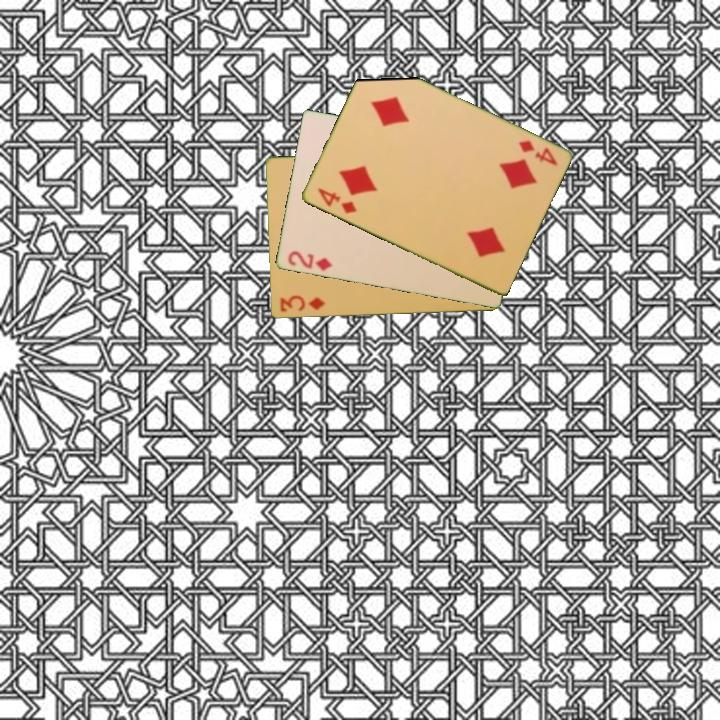2d: (284, 247, 335, 274)
3d: (276, 292, 328, 315)
4d: (313, 184, 359, 217), (514, 137, 560, 169)
